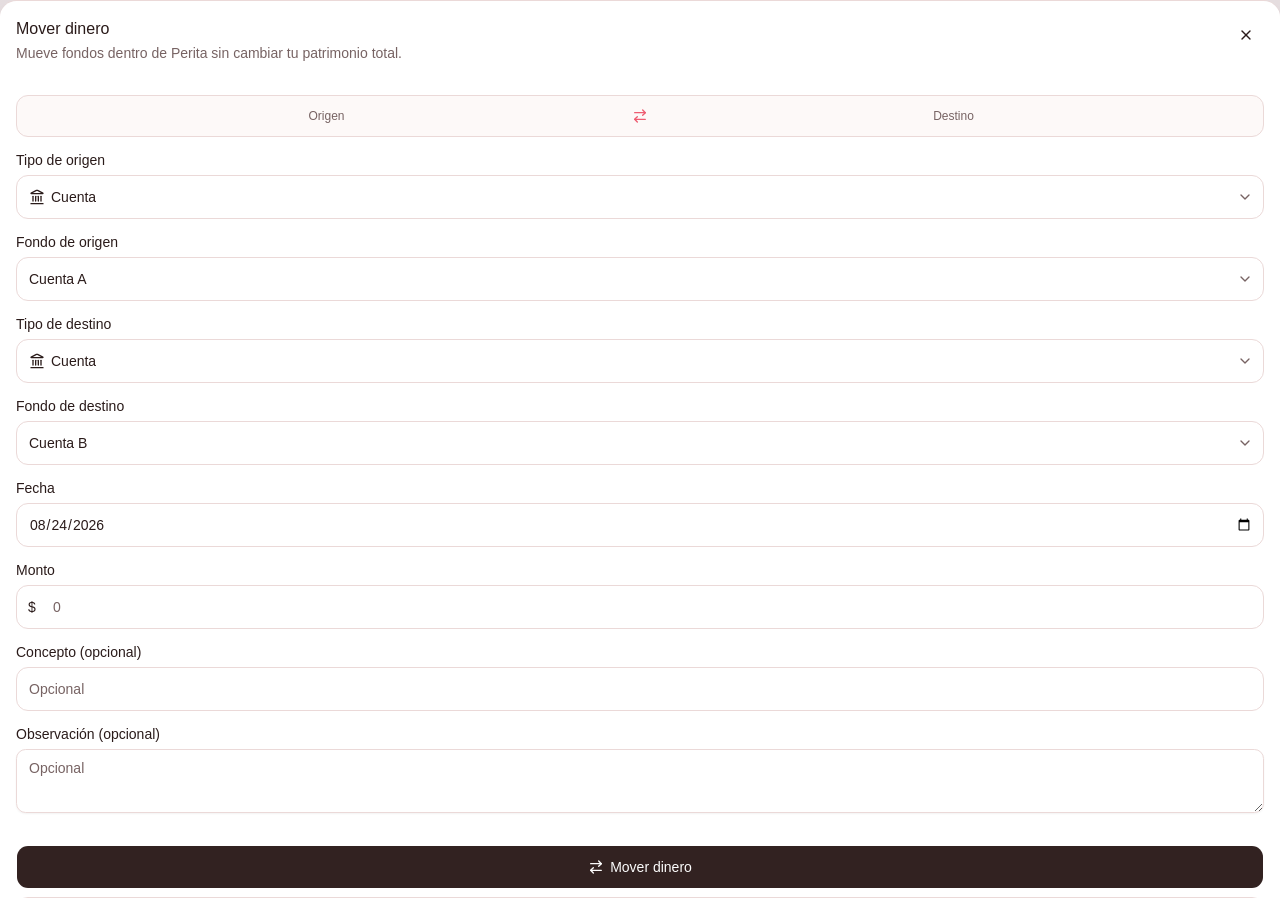
Test: TransferForm C6F › keeps the same endpoint blocked
The width and height of the screenshot is (1280, 898).
What coordinates should you click on to do the following:
click the dropdown named "Tipo de origen"
I would click on:
 (74, 197)
Its box is [16, 175, 1264, 219].
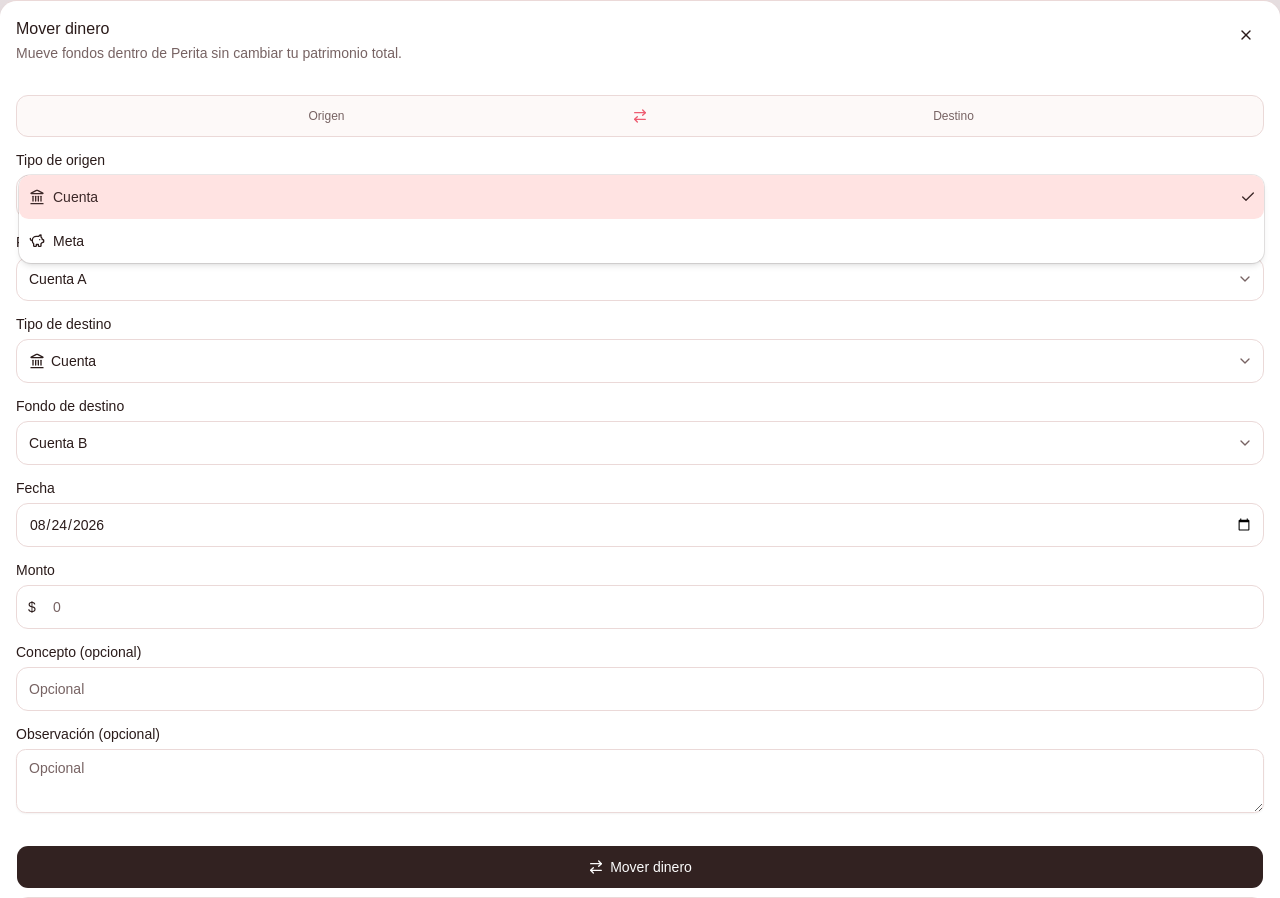
What coordinates should you click on to do the following:
click the option "Meta"
I would click on:
 (57, 241)
Its box is [29, 233, 84, 249].
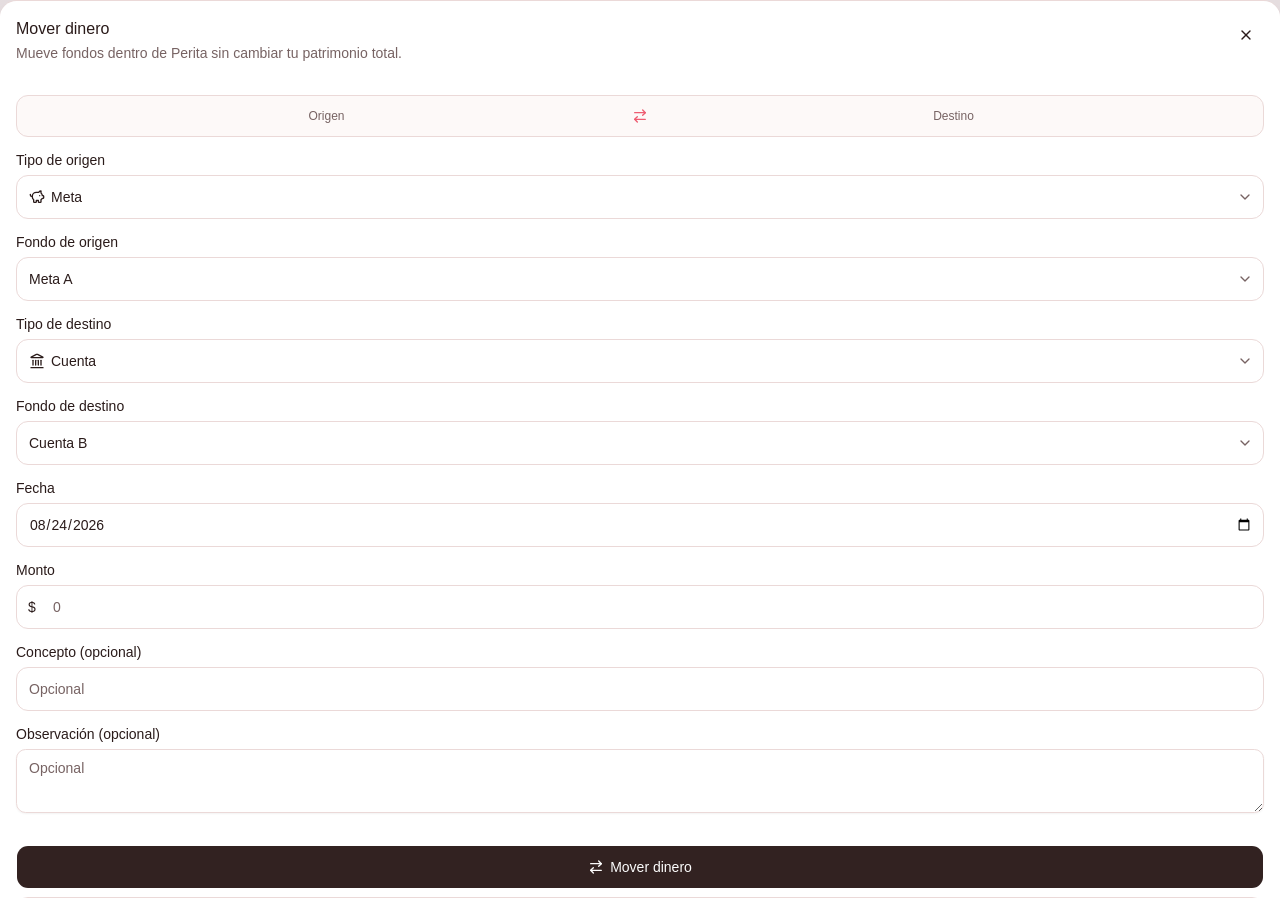
What coordinates should you click on to do the following:
click the dropdown named "Tipo de destino"
I would click on:
 (74, 361)
Its box is [16, 339, 1264, 383].
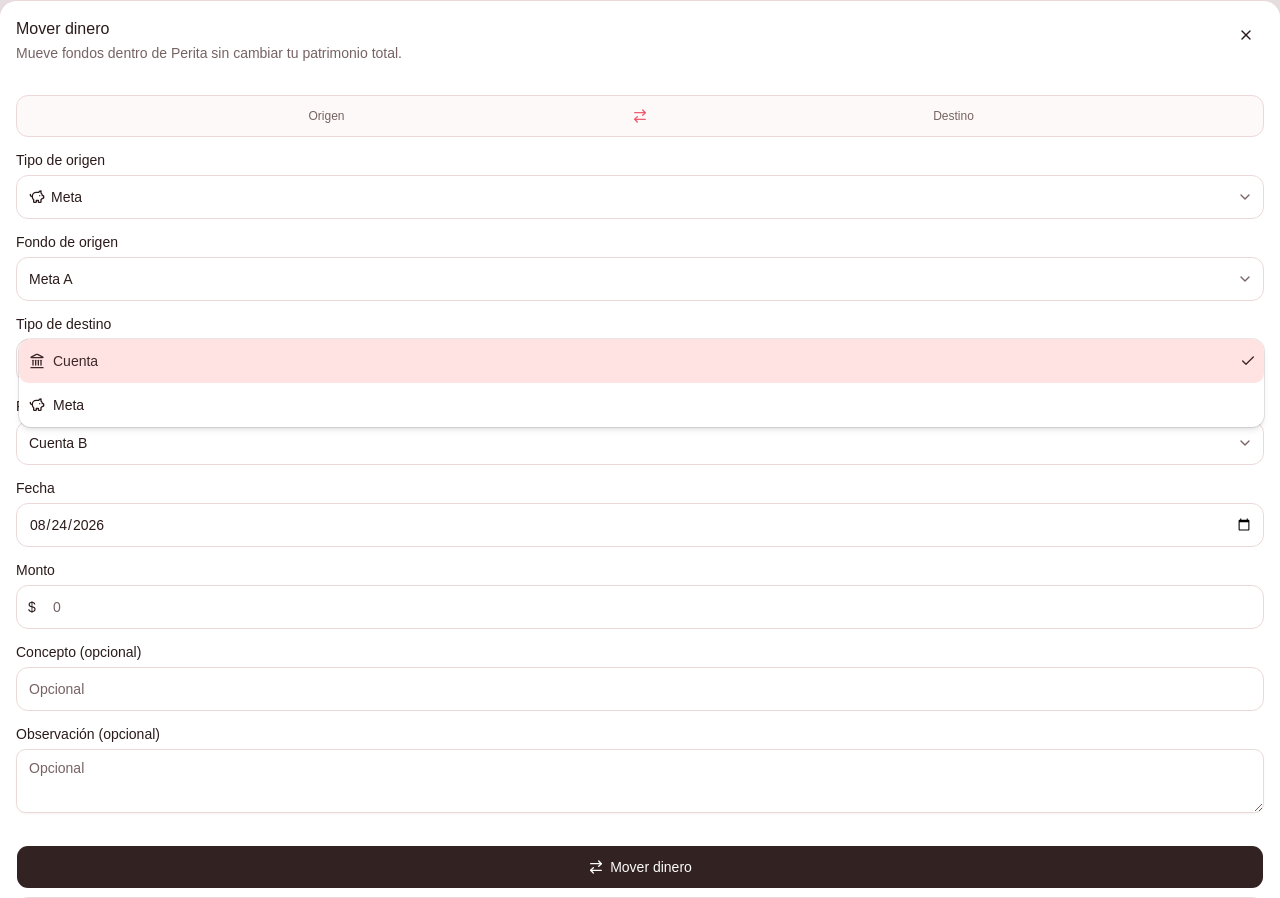
What coordinates should you click on to do the following:
click the option "Meta"
I would click on:
 (57, 405)
Its box is [29, 397, 84, 413].
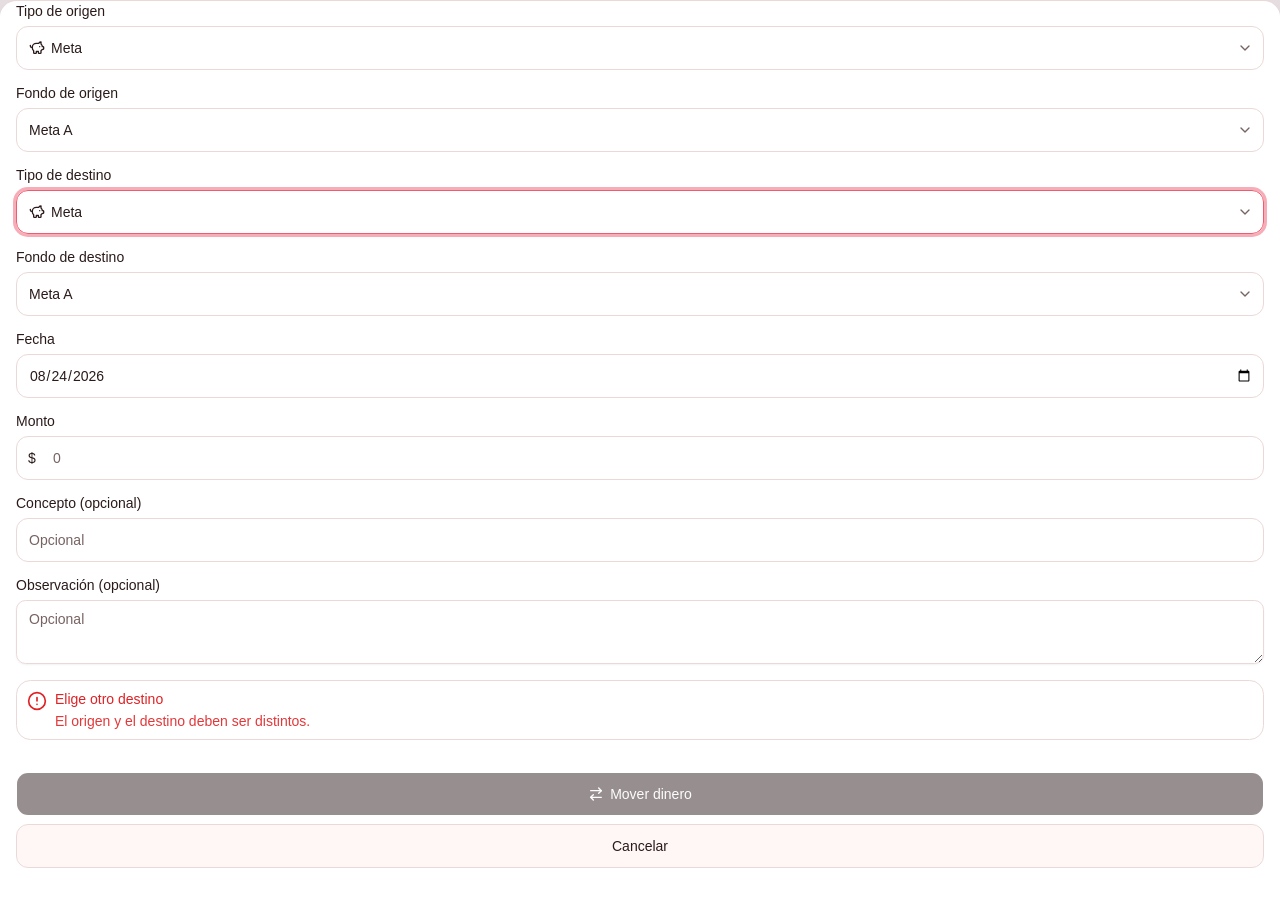
Check: the text "Elige otro destino" is shown, box [55, 691, 163, 707]
Check: the button "Mover dinero" is disabled, box [16, 772, 1264, 816]
